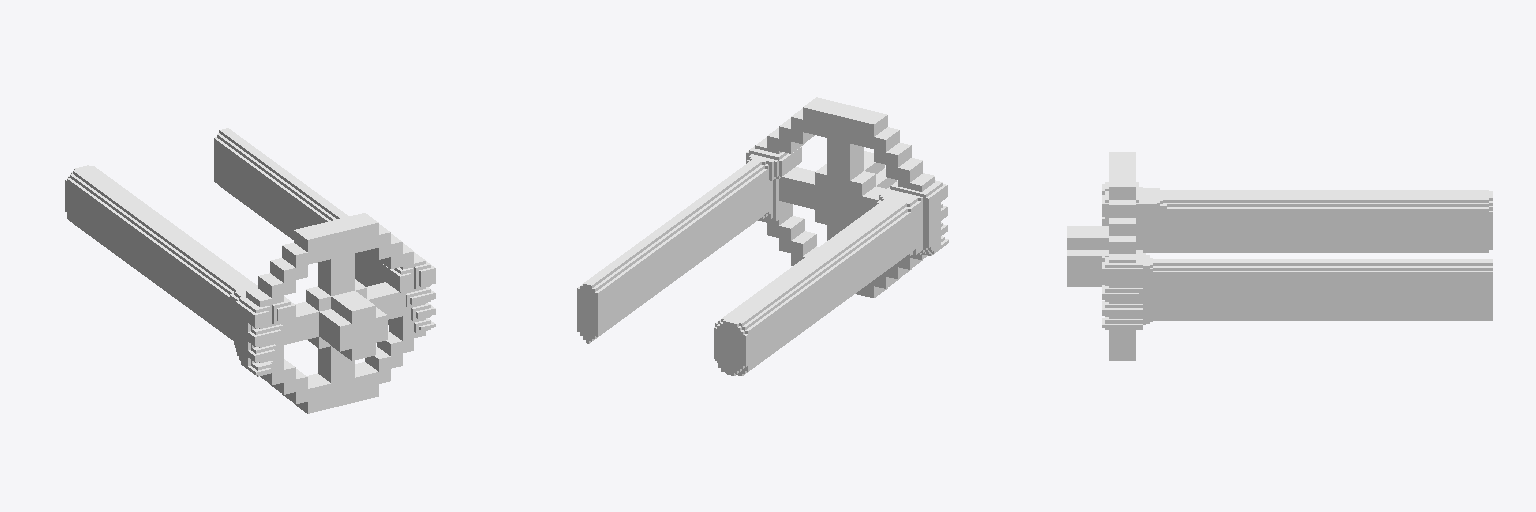
The model's file is Volante2.obj.
3 renders of one model, left to right at view 1: azimuth 30°, elevation 25°; view 2: azimuth 150°, elevation 25°; view 3: azimuth 270°, elevation 25°, orthographic.
Visible parts, largest first — view 1: object 1; view 2: object 1; view 3: object 1.
Part boxes in pixels (x1,y1,x2,y2): object 1: (65,128,435,413); object 1: (577,97,948,375); object 1: (1067,152,1492,360).
Bounding box in the file's own units: 6.1 × 5.6 × 12.4.